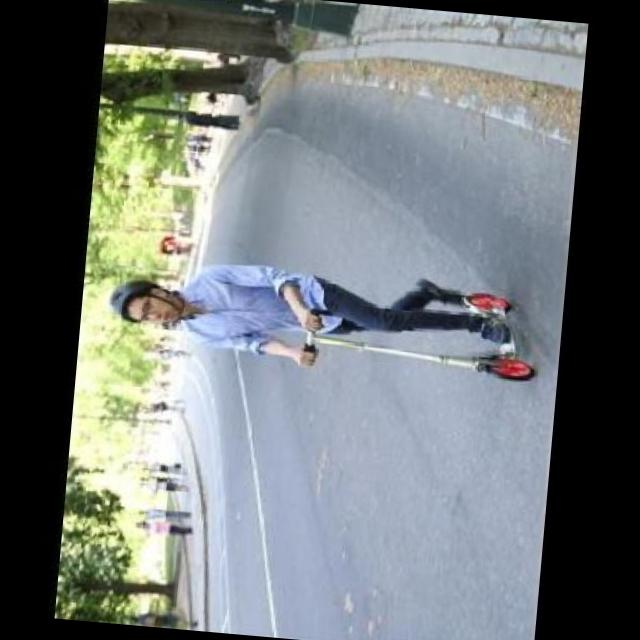With Helmet: (100, 270, 186, 331)
